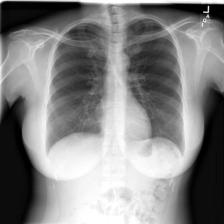normal: (43, 14, 190, 159)
